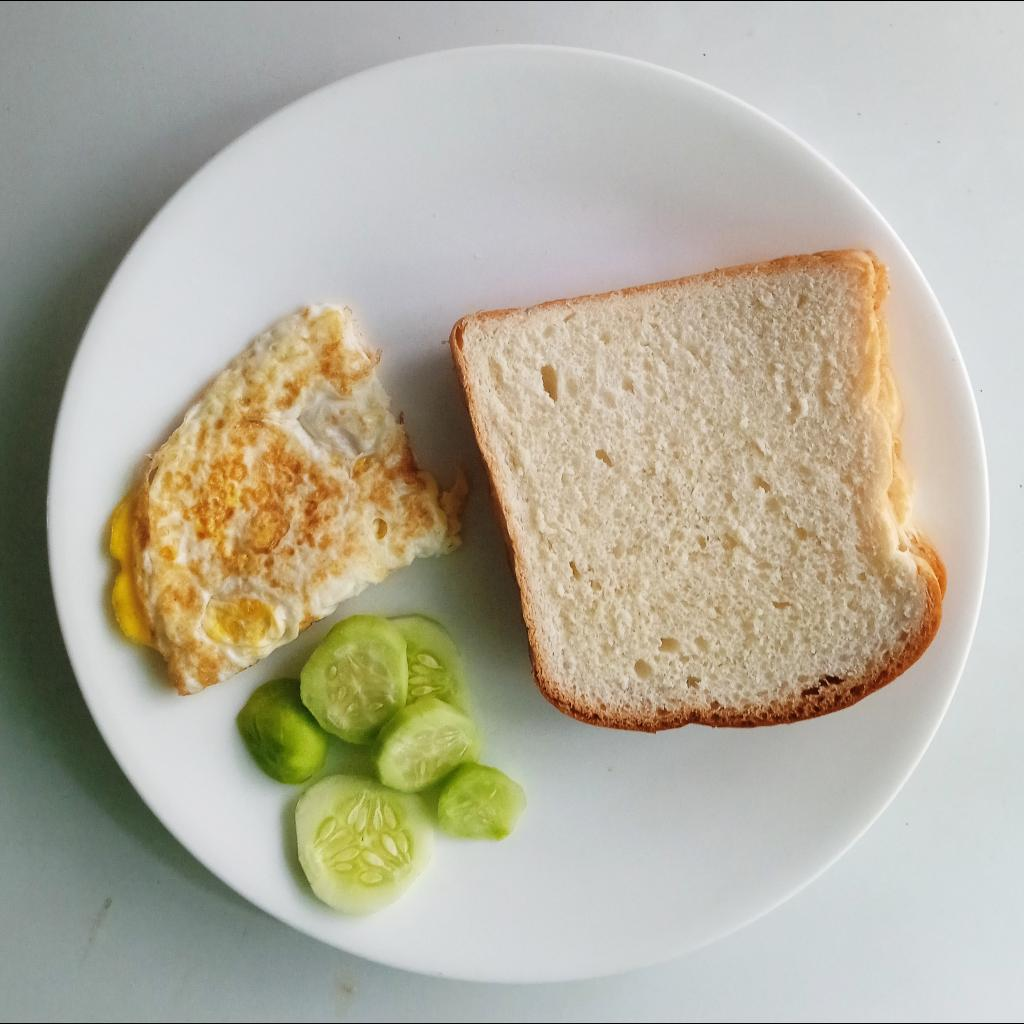bread: (447, 251, 948, 734)
cucumber: (234, 611, 529, 918)
egg-poached: (106, 298, 468, 701)
